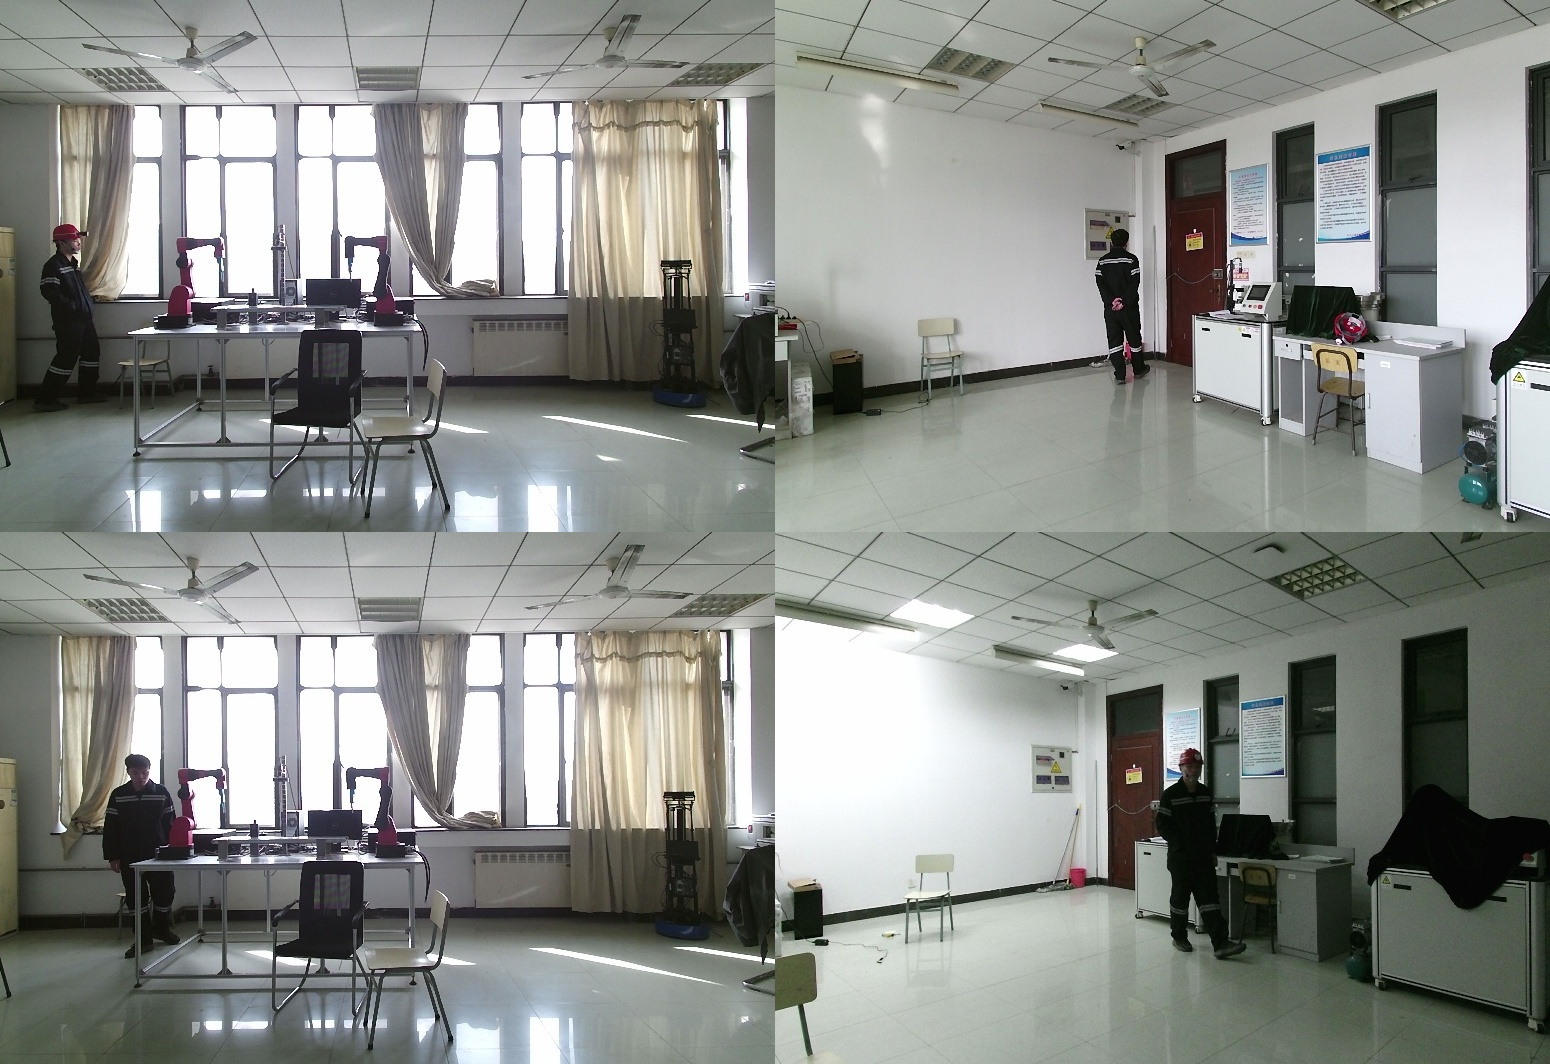person: (1150, 750, 1249, 958), (96, 754, 185, 957), (28, 224, 103, 413), (1091, 228, 1150, 384)
